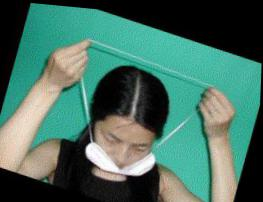WRONG: (87, 122, 154, 192)
